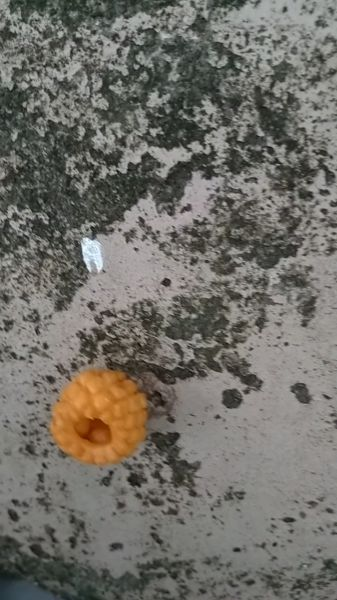eggs: (42, 351, 152, 471)
